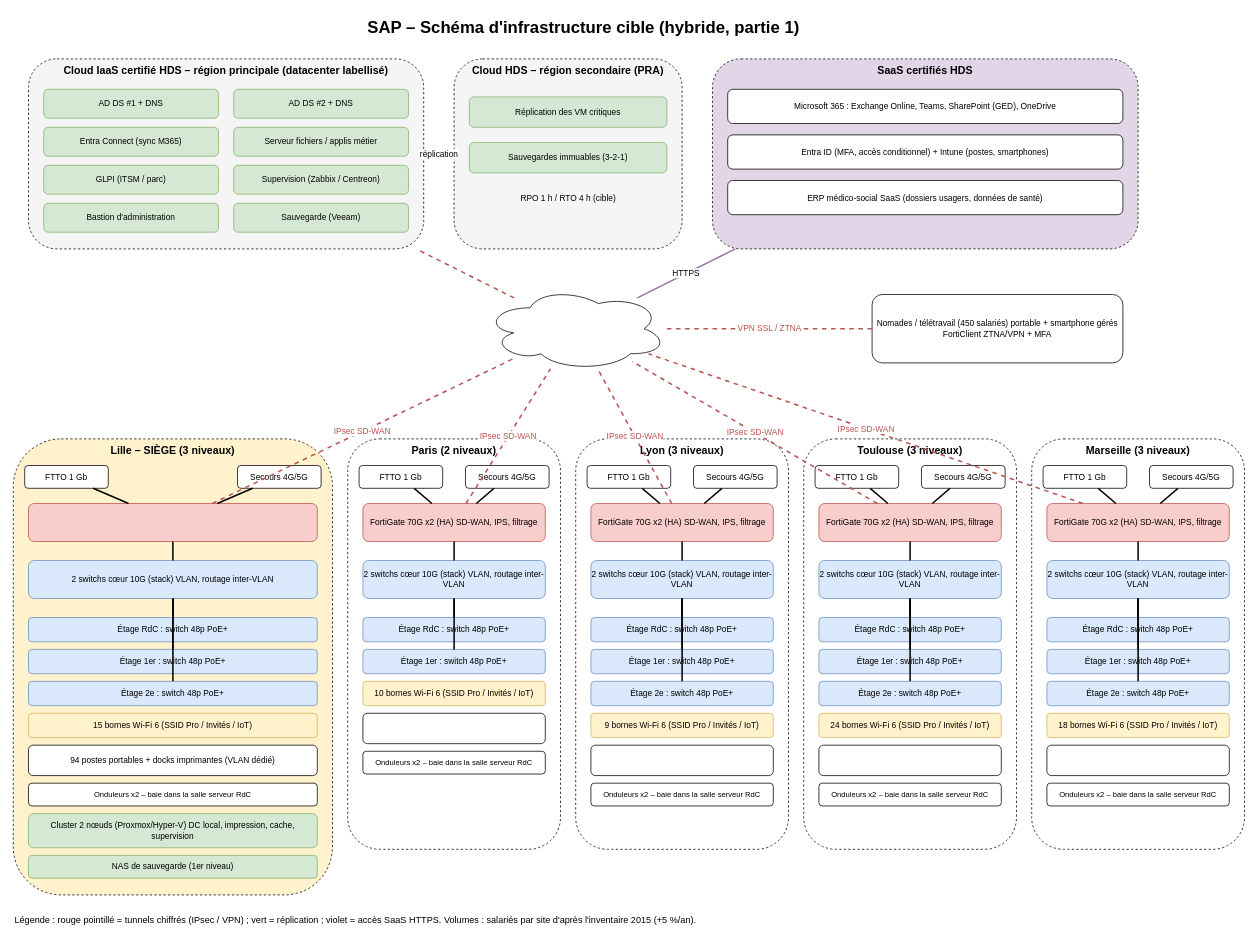
The diagram is 1258 pixels wide and 945 high, and some of its shapes have lost their labels. The centre of each missing label's shape, as x and y in pixels:
"101 postes portables + docks imprimantes (VLAN dédié)" belongs at (x=909, y=760).
"103 postes portables + docks imprimantes (VLAN dédié)" belongs at (x=681, y=760).
"70 postes portables + docks imprimantes (VLAN dédié)" belongs at (x=453, y=728).
"82 postes portables + docks imprimantes (VLAN dédié)" belongs at (x=1137, y=760).
"FortiGate 90G x2 (HA) SD-WAN, IPS, filtrage" belongs at (x=172, y=522).
"Internet" belongs at (x=575, y=328).
